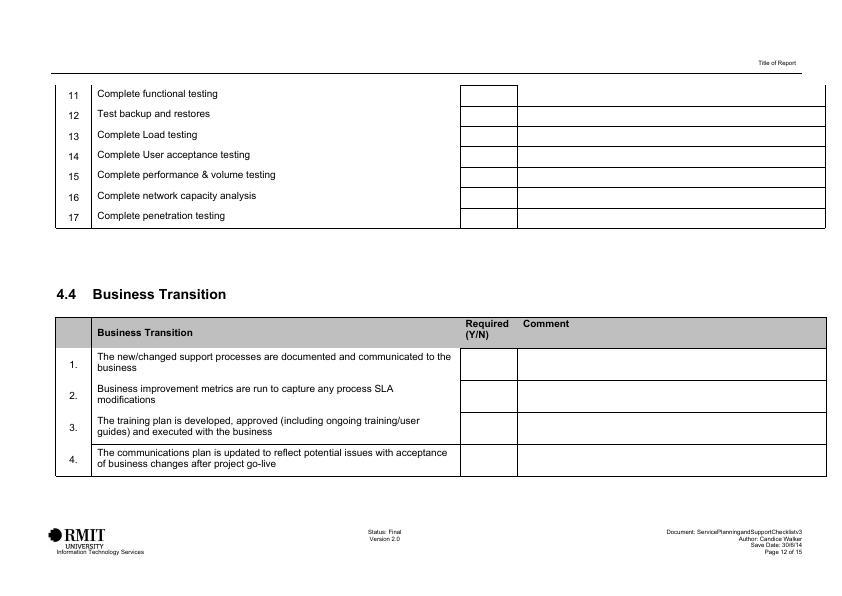table: (50, 314, 832, 480), (47, 70, 832, 235)
text: (663, 526, 807, 559), (54, 284, 229, 304), (364, 525, 407, 544)
